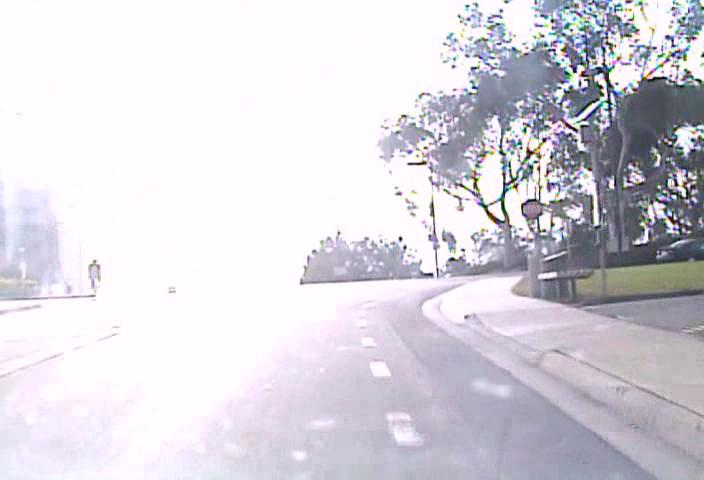stop: (520, 198, 543, 221)
